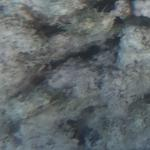dead: (43, 4, 138, 145)
